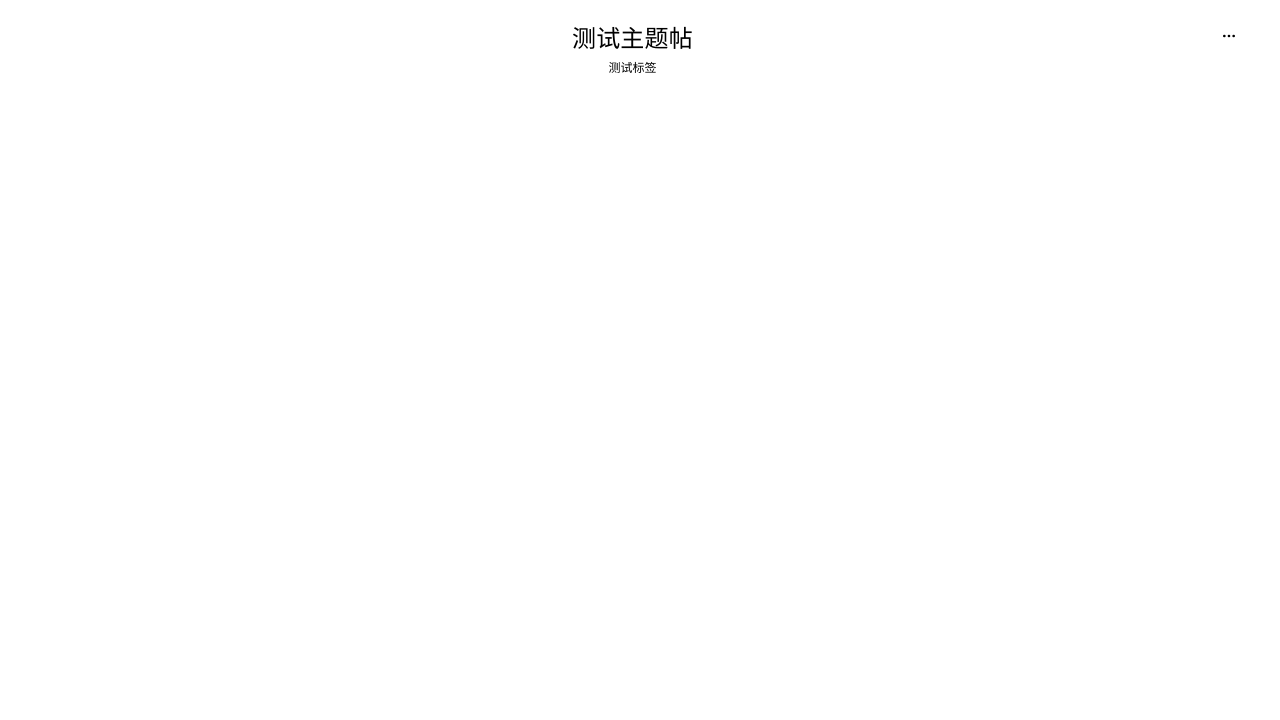
ThreadDetailHeader › OWNER 只在更多面板看到统一管理入口，不再显示编辑按钮
The image size is (1280, 720).
Click the button named "更多帖子信息与操作" at (1229, 36), box 1213,20 -> 1245,52
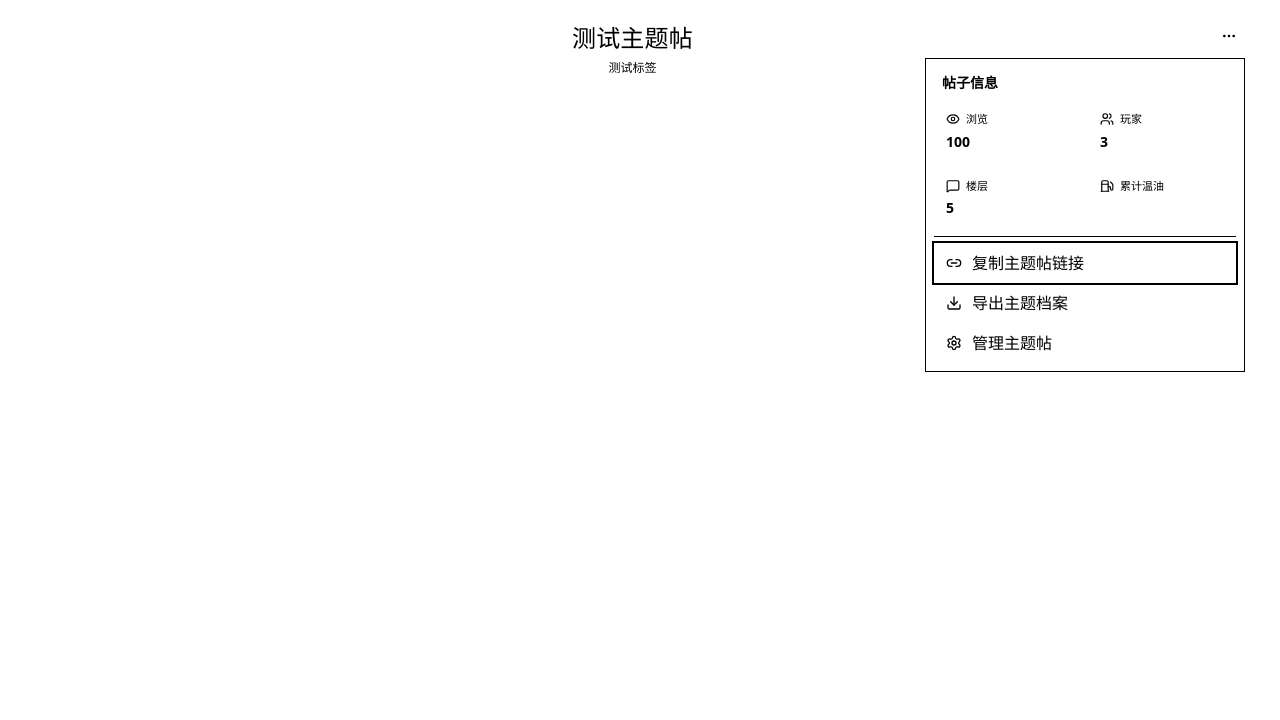
Check: the button "管理主题帖" is shown, box 934,323 -> 1236,363
Check: the button "导出主题档案" is shown, box 934,283 -> 1236,323
